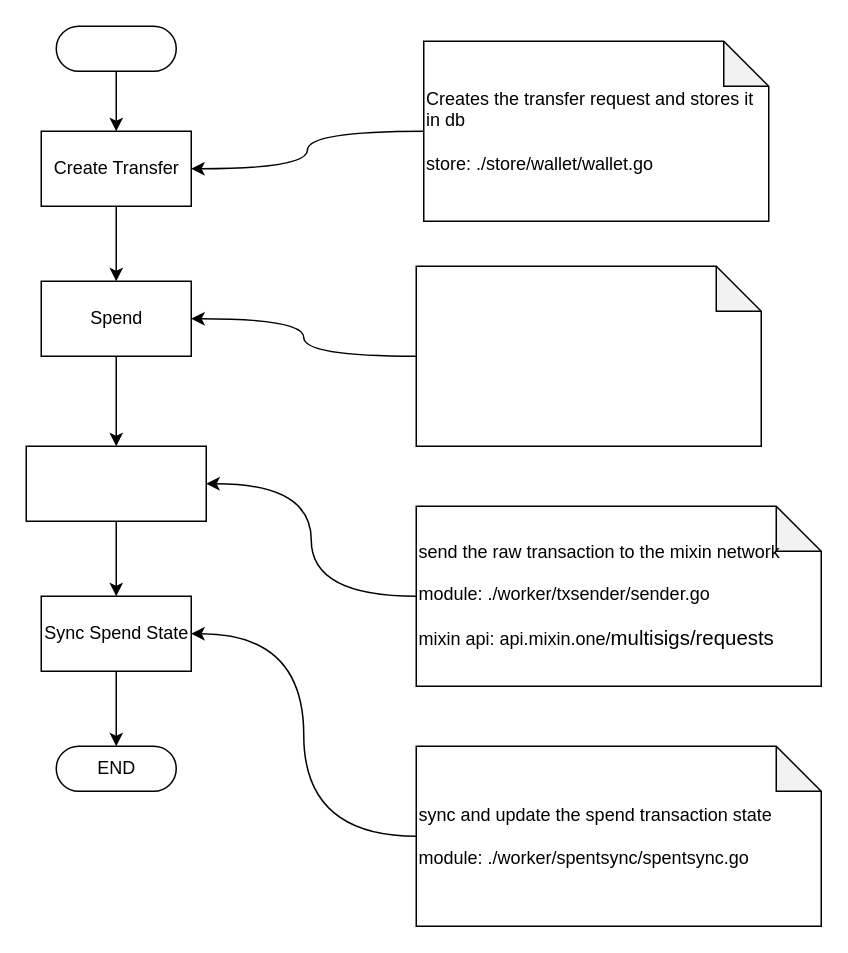
The diagram is 848 pixels wide and 953 high, and some of its shapes have lost their labels. Here are the shapes that lost their labels. From the top down, the centre of each, then its label:
At [115,48]: "START".
At [588,355]: "module: ./worker/cashier/cashier.go".
At [115,483]: "Send raw transaction".
